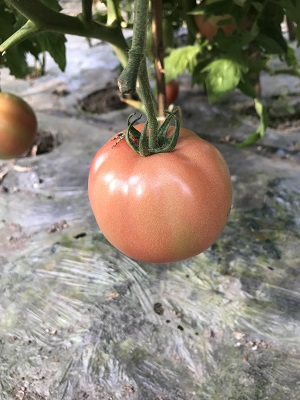semi-mature-tomato: (89, 126, 229, 263)
